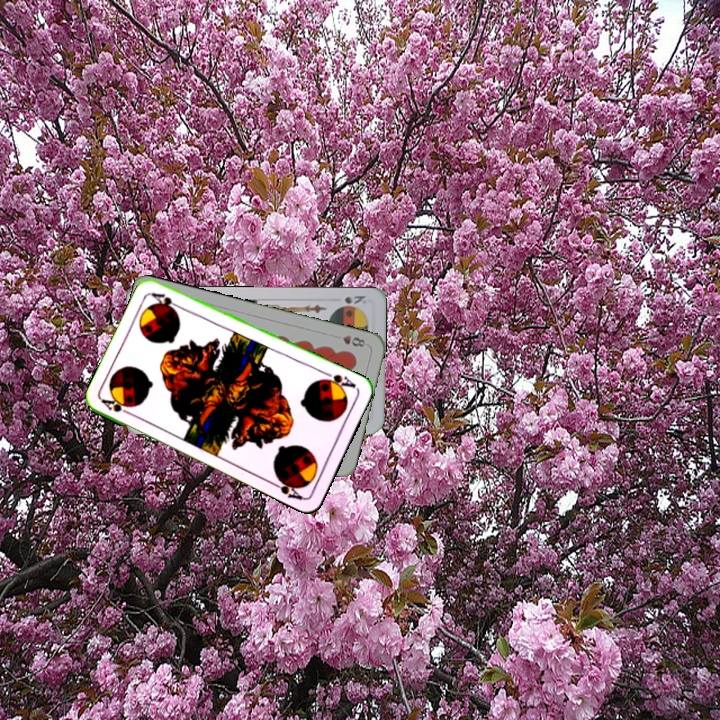H8: (338, 331, 367, 350)
SA: (318, 368, 359, 393), (98, 394, 136, 419)
SK: (340, 292, 369, 307)
